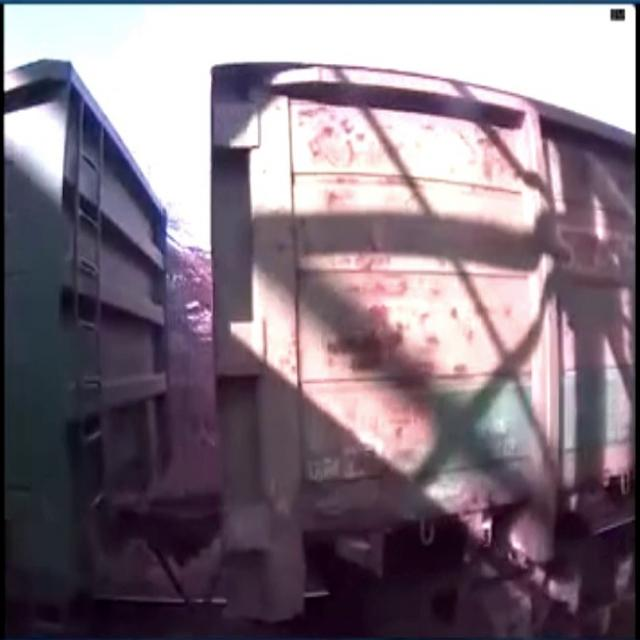gondola: (184, 33, 639, 640), (0, 39, 181, 640)
